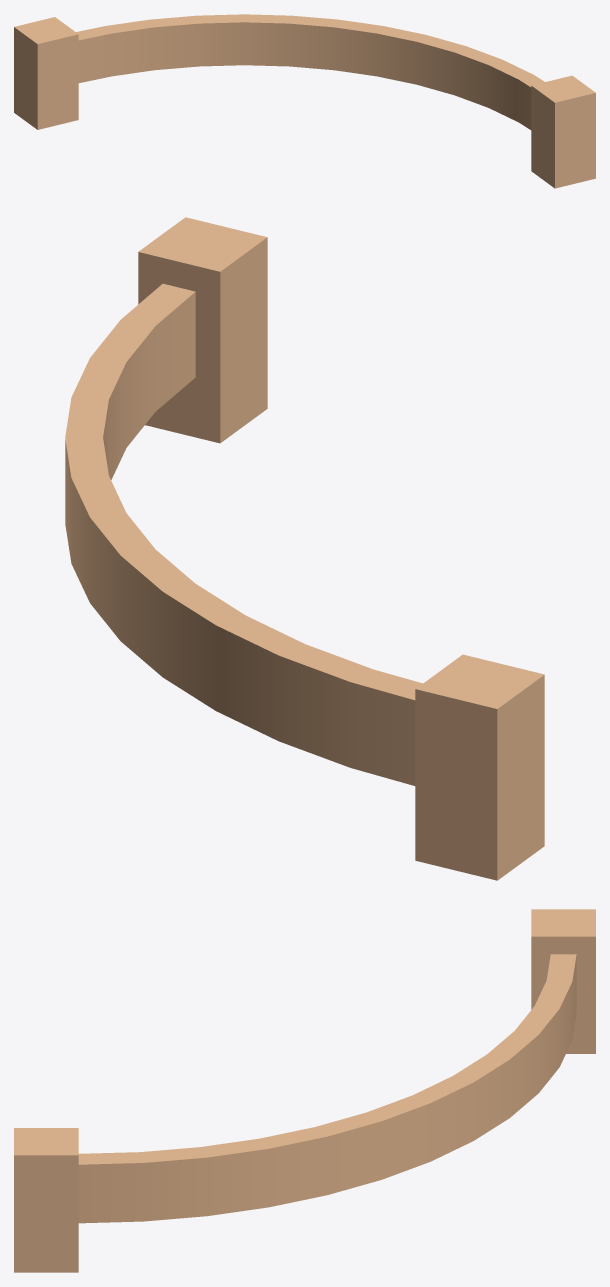
The model's file is fenceLowCornerCurved.glb.
3 renders of one model, top to bottom at view 1: azimuth 30°, elevation 25°; view 2: azimuth 150°, elevation 25°; view 3: azimuth 270°, elevation 25°, orthographic. The views are drawn at different scales.
Visible parts, largest first — view 1: fenceLowCornerCurved(Clone); view 2: fenceLowCornerCurved(Clone); view 3: fenceLowCornerCurved(Clone).
Part boxes in pixels (x1,y1,x2,y2): fenceLowCornerCurved(Clone): (14,14,595,188); fenceLowCornerCurved(Clone): (65,217,544,880); fenceLowCornerCurved(Clone): (14,909,595,1272).
Bounding box in the file's own units: 0.9 × 0.2 × 0.9.
